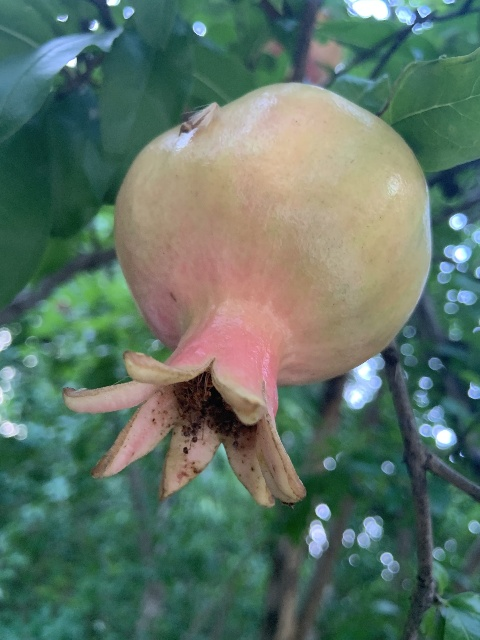mid-growth: (59, 80, 431, 506)
